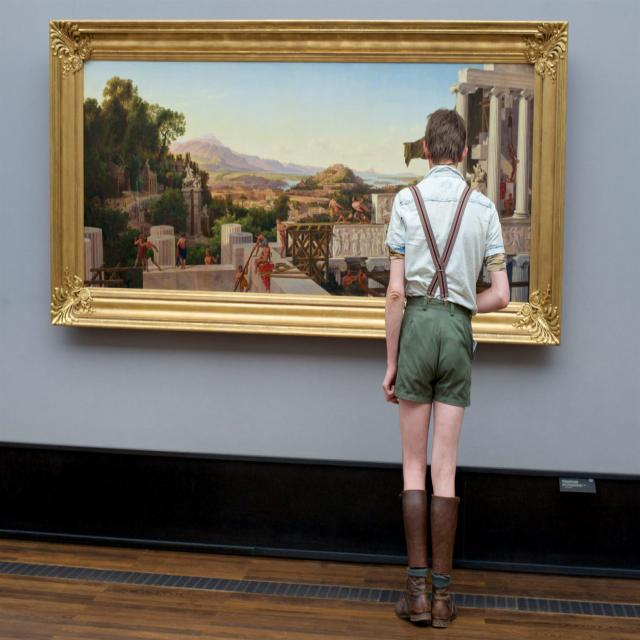Tablo: (82, 58, 536, 304)
